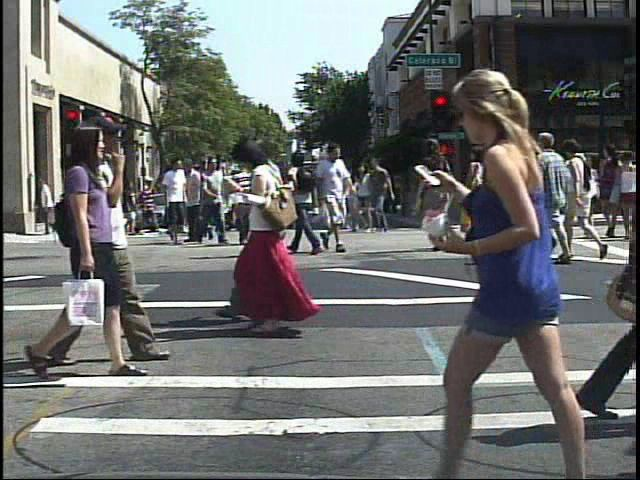person: (403, 61, 604, 480), (18, 118, 146, 380), (225, 134, 315, 333), (93, 108, 153, 371), (255, 130, 299, 332), (560, 132, 609, 270), (532, 121, 572, 269), (246, 136, 290, 262), (413, 133, 454, 257), (461, 143, 505, 256), (318, 141, 360, 252), (292, 150, 328, 257), (194, 154, 231, 249), (226, 150, 259, 247), (161, 157, 197, 243), (574, 147, 606, 243), (138, 174, 159, 242), (71, 182, 91, 232)
